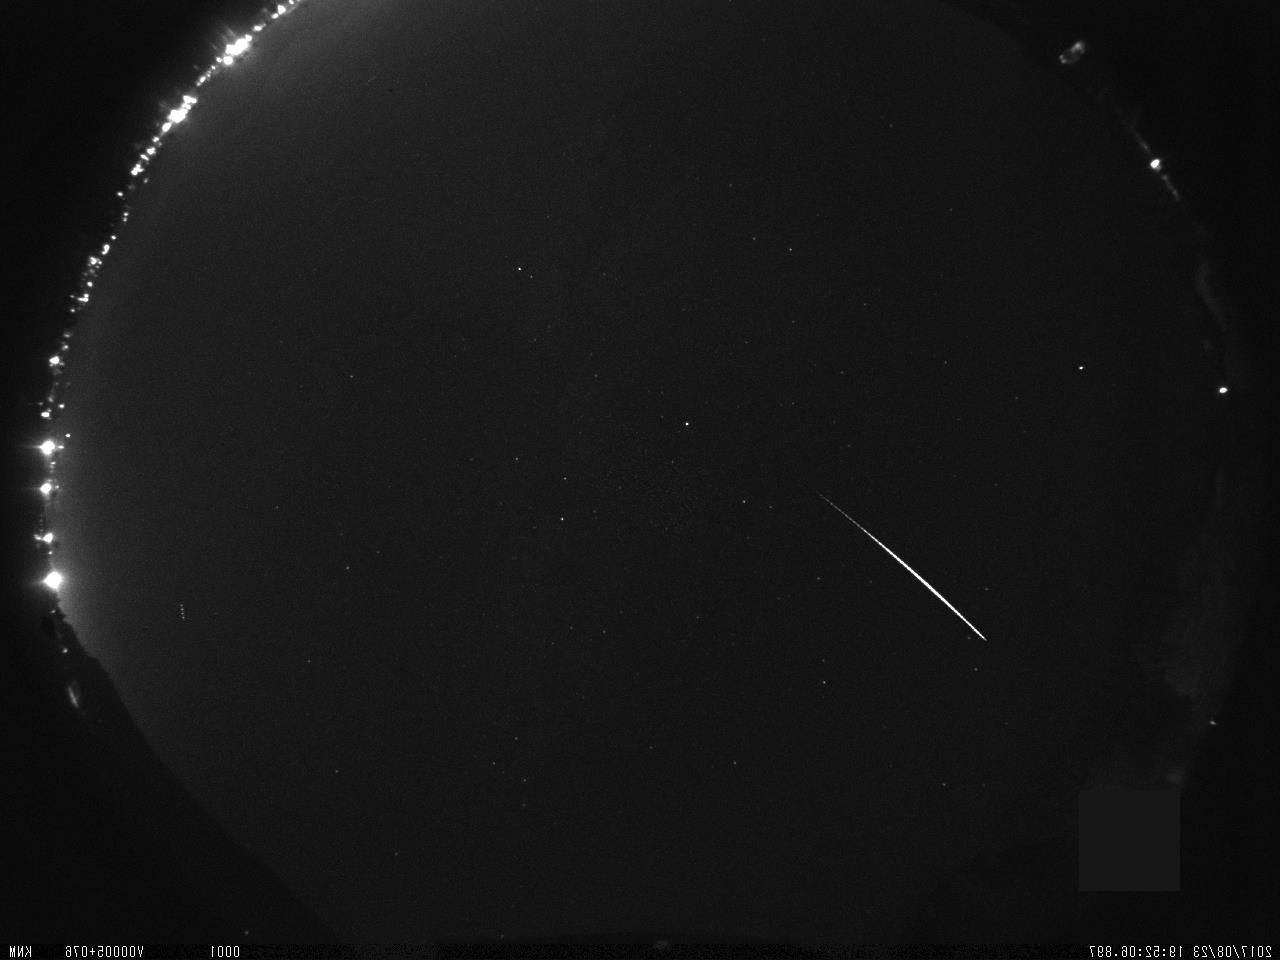meteor: (789, 472, 1012, 668)
